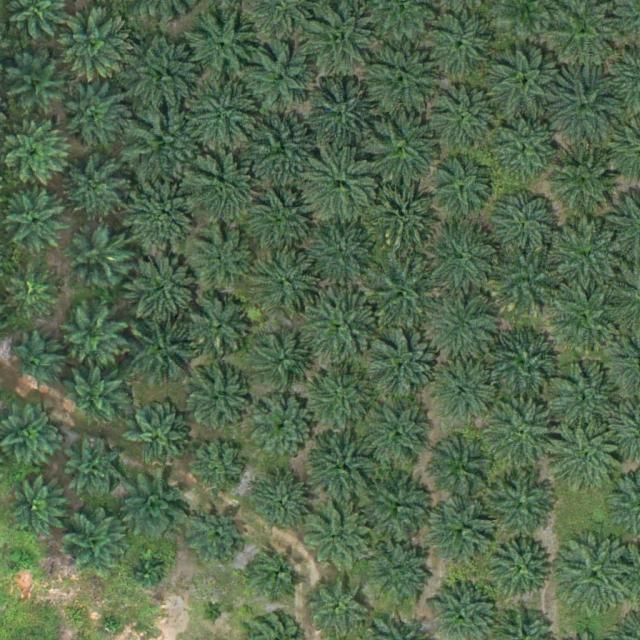Grass: (12, 548, 36, 572)
Healthy: (57, 2, 135, 81), (54, 75, 132, 154), (128, 38, 206, 117), (128, 107, 206, 186), (544, 72, 622, 151), (488, 49, 566, 128), (300, 2, 378, 81), (305, 82, 383, 161), (363, 42, 441, 121), (126, 176, 204, 255), (183, 154, 261, 233), (303, 428, 381, 507), (301, 361, 379, 440), (301, 285, 379, 364), (303, 147, 381, 226), (370, 173, 448, 252), (364, 250, 442, 329), (364, 331, 442, 410), (360, 468, 438, 547), (424, 292, 502, 371), (424, 223, 502, 302), (485, 325, 563, 404), (483, 394, 561, 473), (550, 422, 628, 501), (546, 361, 624, 440), (555, 536, 633, 615), (187, 78, 265, 156), (123, 249, 201, 327), (426, 10, 497, 81), (434, 87, 505, 158), (364, 539, 435, 610), (247, 42, 318, 112), (122, 474, 193, 544), (303, 225, 373, 296), (363, 401, 433, 472), (430, 432, 500, 503), (492, 115, 562, 186), (550, 142, 620, 213), (493, 251, 563, 322), (185, 13, 255, 83), (128, 318, 198, 388), (369, 117, 439, 187), (550, 218, 620, 288), (489, 190, 559, 260), (486, 474, 556, 544), (303, 505, 373, 575), (64, 364, 127, 427), (127, 406, 190, 469), (257, 254, 320, 317), (250, 475, 313, 538), (304, 571, 367, 634), (64, 514, 127, 577), (64, 161, 127, 223), (69, 229, 132, 291), (62, 307, 124, 370), (6, 192, 68, 255), (188, 373, 250, 436), (187, 298, 249, 361), (190, 228, 252, 291), (245, 187, 308, 249), (253, 397, 315, 460), (437, 367, 500, 429), (431, 159, 493, 222), (555, 284, 617, 347), (489, 537, 551, 600), (434, 502, 496, 565), (244, 543, 306, 606), (4, 54, 66, 116), (252, 116, 314, 178), (4, 477, 66, 539), (11, 335, 66, 390), (7, 268, 62, 323), (66, 441, 121, 496), (255, 338, 310, 393), (190, 509, 245, 564), (190, 442, 244, 497)
Small: (132, 557, 163, 589), (102, 615, 126, 639), (203, 603, 227, 627)
